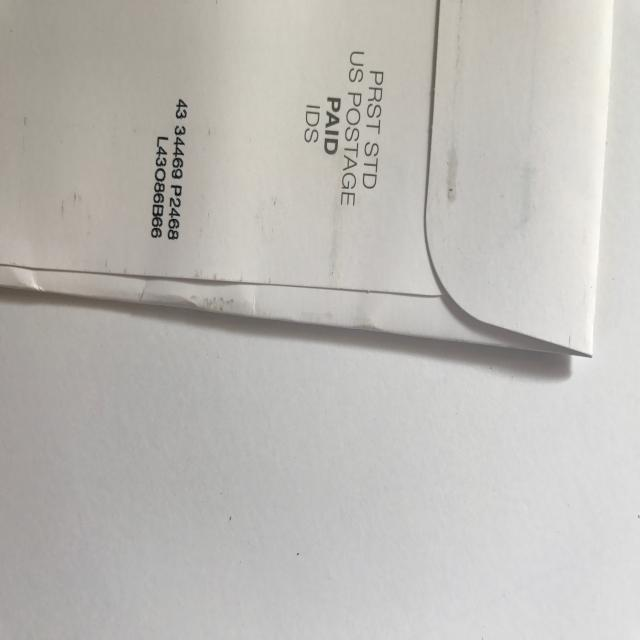paper: (1, 2, 616, 366)
